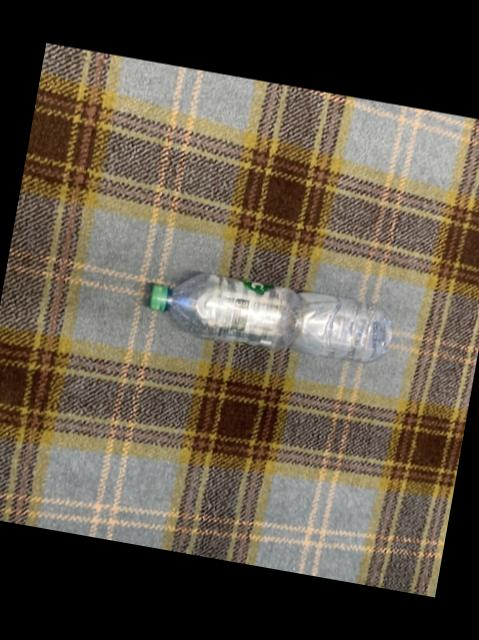plastic: (149, 274, 391, 364)
